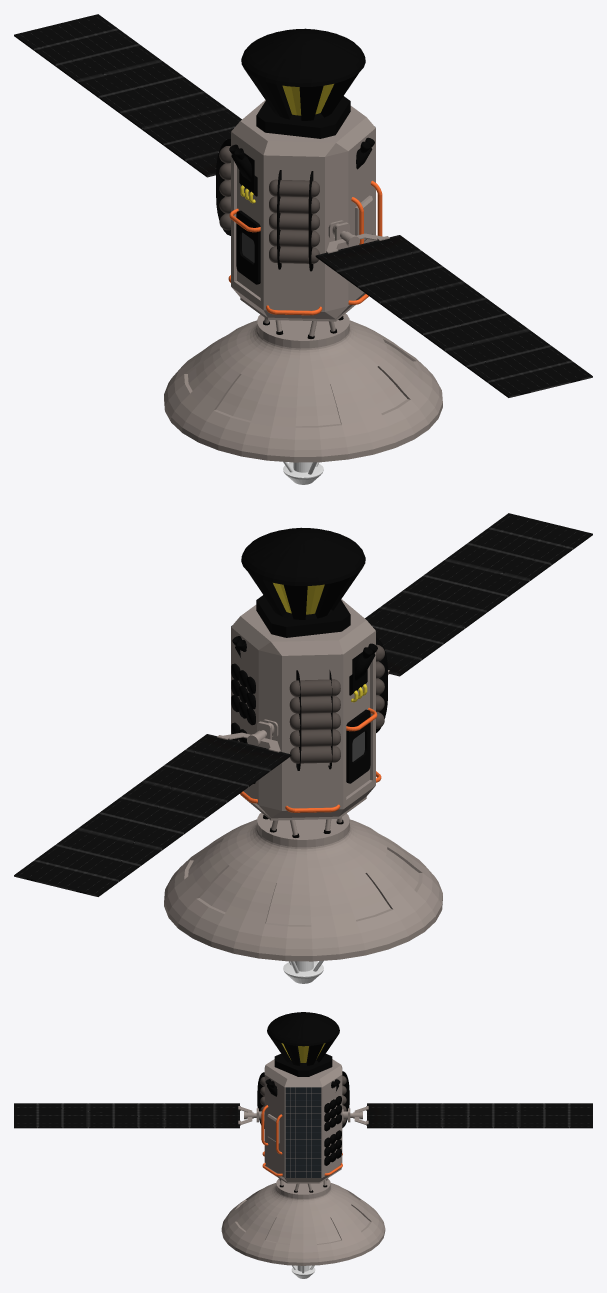
The model's file is satellite.gltf.
3 renders of one model, top to bottom at view 1: azimuth 30°, elevation 25°; view 2: azimuth 150°, elevation 25°; view 3: azimuth 270°, elevation 25°, orthographic. The views are drawn at different scales.
Visible parts, largest first — view 1: Satellite; view 2: Satellite; view 3: Satellite.
Boxes of the visible parts, <box> form: Satellite: <box>14,14,592,484</box>; Satellite: <box>14,513,592,983</box>; Satellite: <box>14,1012,592,1278</box>.
Bounding box in the file's own units: 8.61 × 15.14 × 30.49.
18 materials, 1 textured.
